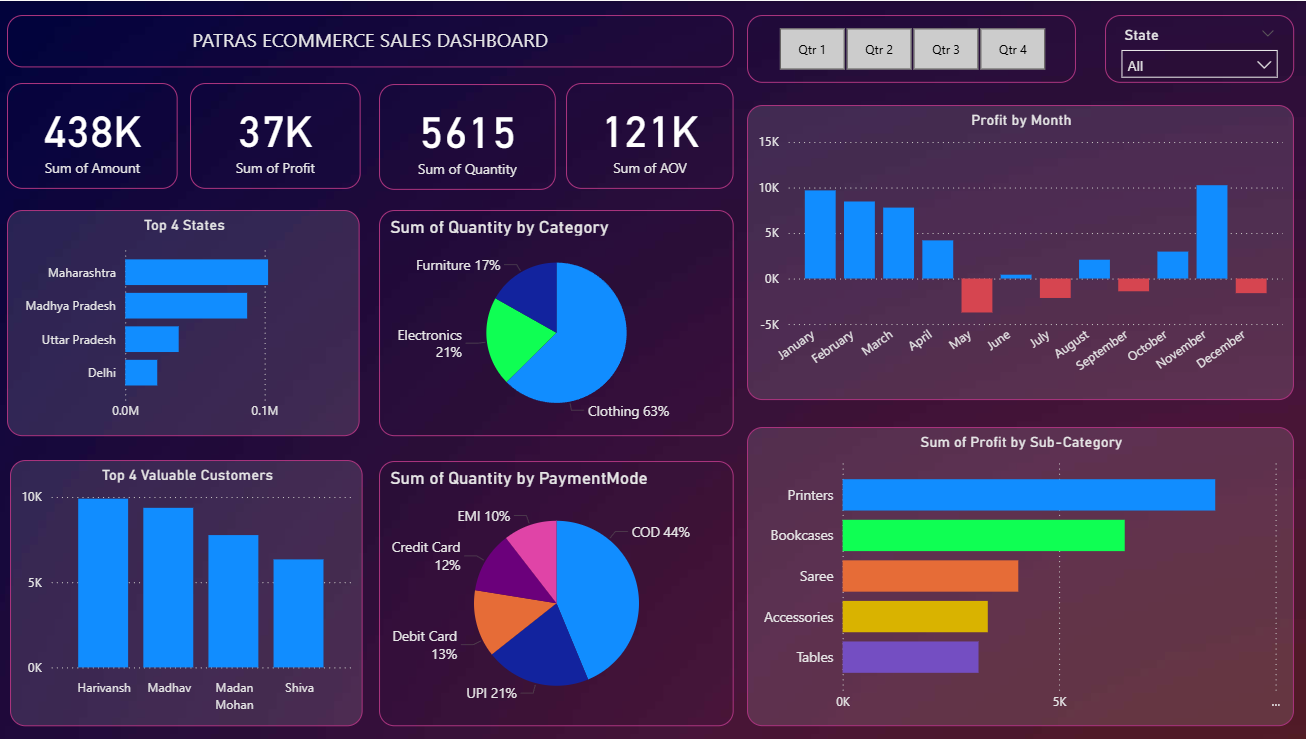

Layout of this report page (visuals, bound fields, positions):
{"tool":"powerbi","page":{"name":"Page 1","canvas":[1280,720],"ordinal":0},"visuals":[{"type":"columnChart","title":"Profit by Month","fields":{"Y":["Sum(Details.Profit)"],"Category":["Orders.Order Date.Variation.Date Hierarchy.Month"]},"box":[729.3,101.5,532.1,287],"z":0},{"type":"barChart","fields":{"Category":["Details.Sub-Category"],"Y":["Sum(Details.Profit)"]},"box":[729.3,414,532.1,291],"z":1000},{"type":"pieChart","fields":{"Category":["Details.Category"],"Y":["Sum(Details.Quantity)"]},"box":[371.6,203.3,345.3,219.8],"z":2000},{"type":"pieChart","fields":{"Y":["Sum(Details.Quantity)"],"Category":["Details.PaymentMode"]},"box":[371.6,447.4,345.3,257.8],"z":3000},{"type":"card","fields":{"Values":["Sum(Details.Amount)"]},"box":[9.7,79.8,166.3,103.1],"z":4000},{"type":"card","fields":{"Values":["Sum(Details.Quantity)"]},"box":[372,81,171.8,102.5],"z":5000},{"type":"card","fields":{"Values":["Sum(Details.Profit)"]},"box":[187.5,80.1,166,102.5],"z":6000},{"type":"card","fields":{"Values":["Sum(Details.AOV)"]},"box":[553.4,79.8,163.4,103.1],"z":7000},{"type":"barChart","title":"Top 4 States","fields":{"Category":["Orders.State"],"Y":["Sum(Details.Amount)"]},"box":[9.7,203.3,343.3,219.8],"z":8000},{"type":"columnChart","title":"Top 4 Valuable Customers","fields":{"Category":["Orders.CustomerName"],"Y":["Sum(Details.Amount)"]},"box":[12.6,446.4,343.3,258.7],"z":9000},{"type":"textbox","box":[9.8,13.7,706.9,50.8],"z":10000},{"type":"slicer","fields":{"Values":["Orders.Order Date.Variation.Date Hierarchy.Quarter"]},"box":[729.3,13.7,320.2,66.4],"z":11000},{"type":"slicer","fields":{"Values":["Orders.State"]},"box":[1077.9,13.7,183.6,66.4],"z":12000}]}

Visuals, with their boxes in screenshot pixels (x1, y1, x2, y2), scaled from the page's 1280x720 canvas onto the 1306x739 screenshot:
"Profit by Month" columnChart: region(744, 104, 1287, 399)
barChart - Details.Sub-Category x Sum(Details.Profit): region(744, 425, 1287, 724)
pieChart - Details.Category x Sum(Details.Quantity): region(379, 209, 731, 434)
pieChart - Sum(Details.Quantity) x Details.PaymentMode: region(379, 459, 731, 724)
card - Sum(Details.Amount): region(10, 82, 180, 188)
card - Sum(Details.Quantity): region(380, 83, 555, 188)
card - Sum(Details.Profit): region(191, 82, 361, 187)
card - Sum(Details.AOV): region(565, 82, 731, 188)
"Top 4 States" barChart: region(10, 209, 360, 434)
"Top 4 Valuable Customers" columnChart: region(13, 458, 363, 724)
textbox: region(10, 14, 731, 66)
slicer - Orders.Order Date.Variation.Date Hierarchy.Quarter: region(744, 14, 1071, 82)
slicer - Orders.State: region(1100, 14, 1287, 82)
